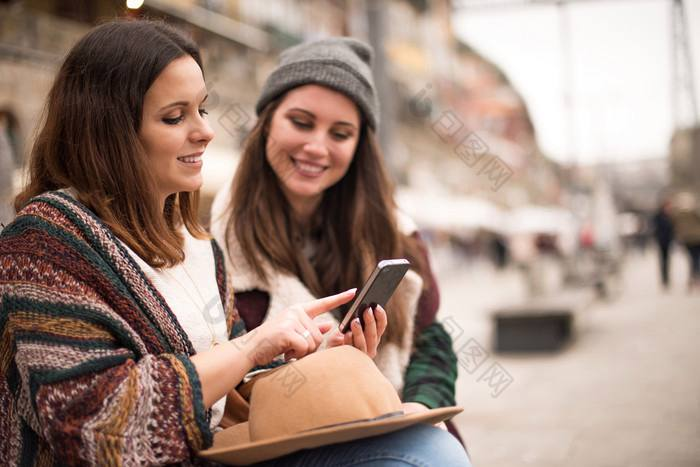reading: (246, 254, 413, 362)
